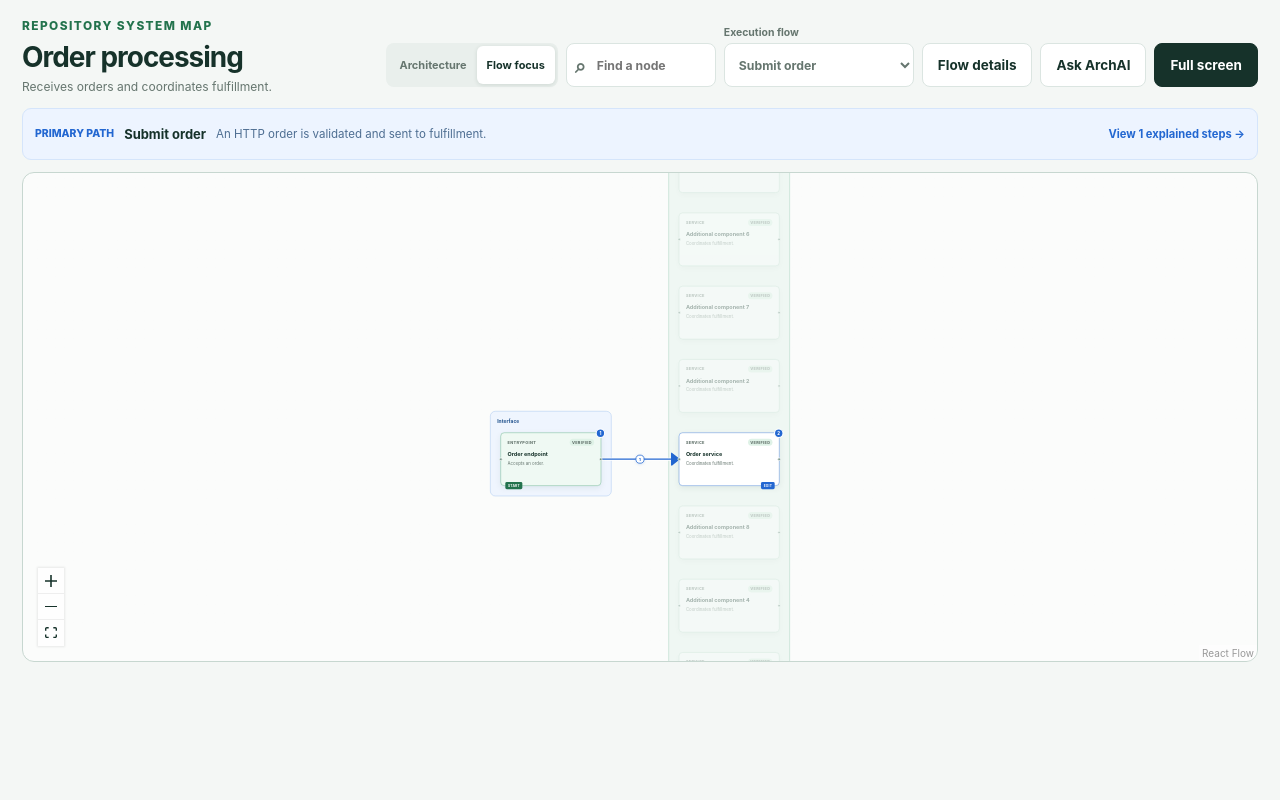
Test: system map clarity › omits the minimap and opens chat as a separate map panel
Click the button "Ask ArchAI". click: (1094, 65)
box: x1=1040 y1=43 x2=1146 y2=87
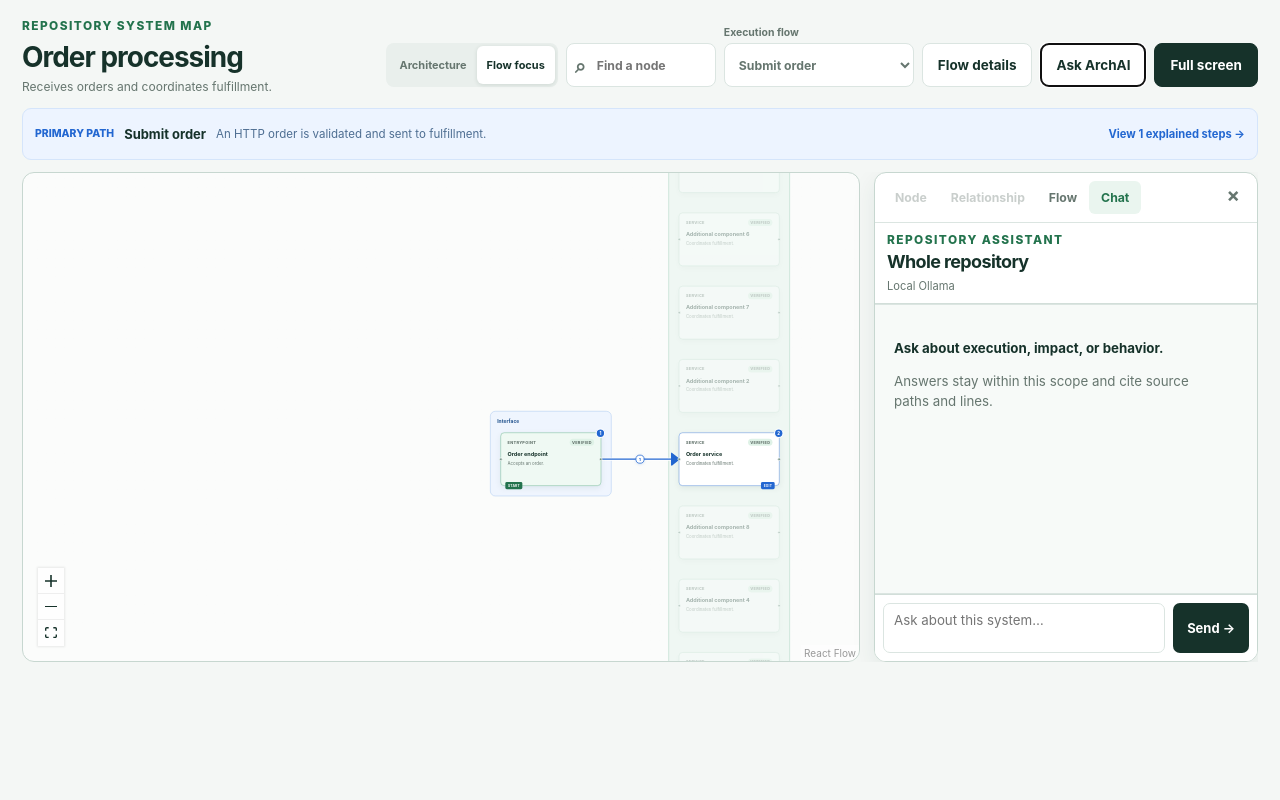
Expected: the element with class "drawer-open" is shown, x1=22 y1=172 x2=1258 y2=662
Expected: the element with class "map-drawer" is shown, x1=874 y1=172 x2=1258 y2=662
Expected: the text "Repository assistant" is shown, x1=887 y1=232 x2=1064 y2=247
